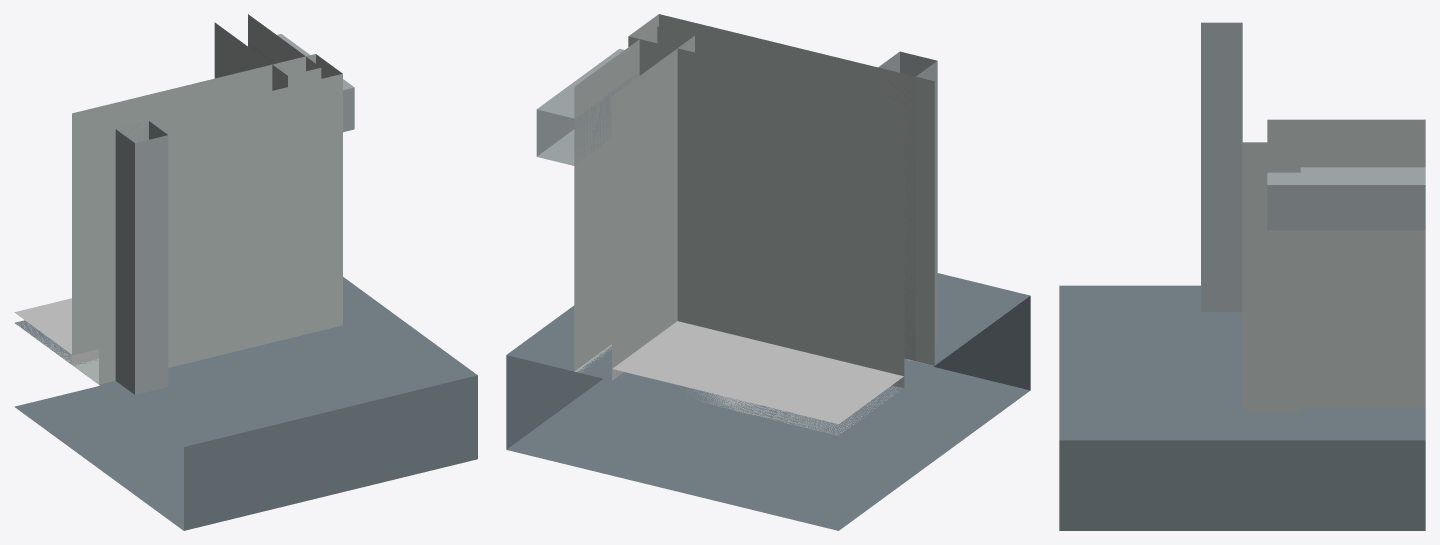
The model's file is cell_48.obj.
3 views of the same model, side by side, from view 1: azimuth 30°, elevation 25°; view 2: azimuth 150°, elevation 25°; view 3: azimuth 270°, elevation 25° (orthographic). The views are drawn at different scales.
Bounding box in the file's own units: 0.88 × 0.96 × 0.88.
